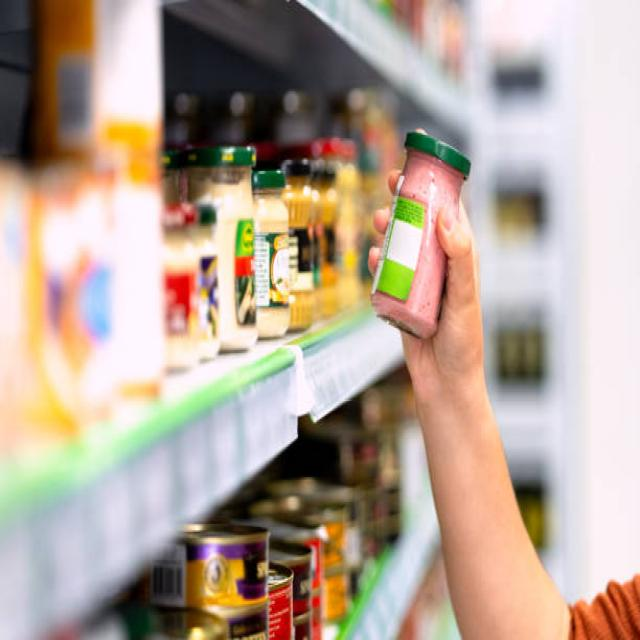article: (371, 133, 470, 337)
hands: (402, 201, 585, 637), (589, 574, 639, 635)
